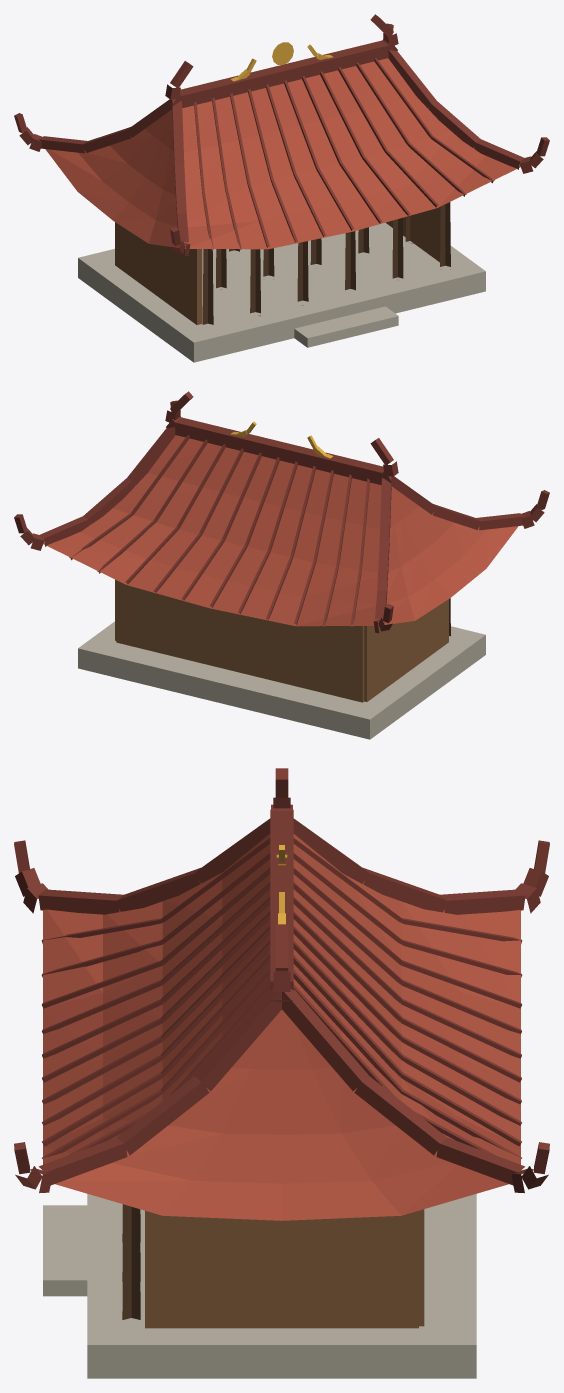
File: viet_dinh.glb
The picture shows the model from 3 angles, top to bottom: view 1: azimuth 30°, elevation 25°; view 2: azimuth 150°, elevation 25°; view 3: azimuth 270°, elevation 25°; orthographic projection. The views are drawn at different scales.
Parts seen in each view (by area): view 1: viet_dinh; view 2: viet_dinh; view 3: viet_dinh.
Part boxes in pixels (box(x1,y1,x2,y2)): viet_dinh: box(14, 14, 549, 362); viet_dinh: box(14, 391, 549, 739); viet_dinh: box(14, 768, 549, 1378).
Size of the model in its own units: 1 by 0.6238 by 0.7344.
